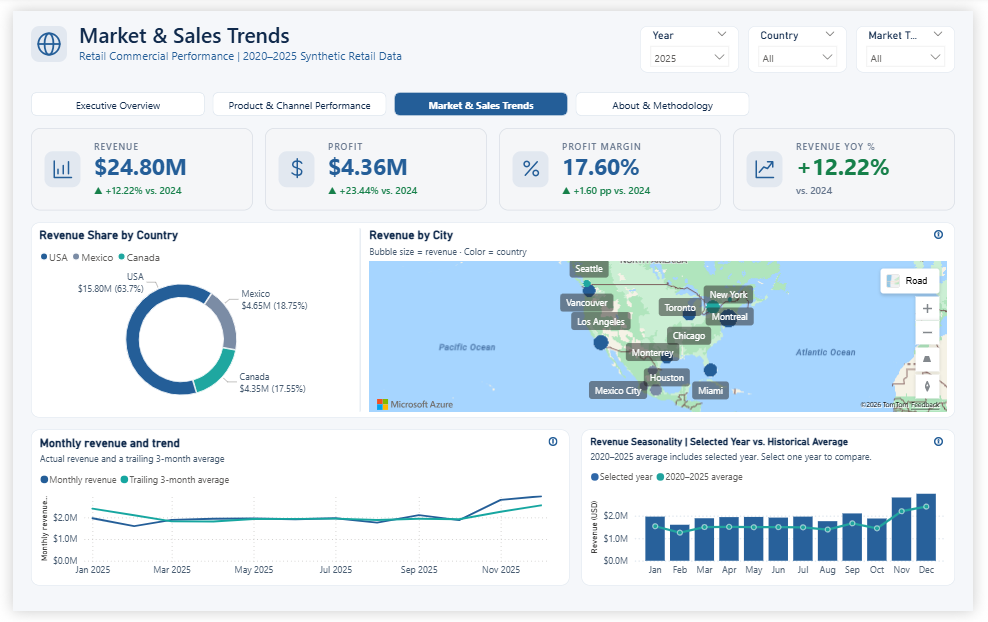

The page's visual inventory and layout, read from the dashboard file:
{"tool":"powerbi","page":{"name":"Market & Sales Trends","canvas":[1280,800],"ordinal":2},"visuals":[{"type":"textbox","box":[88,12,710,80],"z":0},{"type":"shape","box":[24.7,282.8,1231.8,260],"z":0,"group":"g1"},{"type":"image","box":[24,20,48,48],"z":1000},{"type":"donutChart","title":"Revenue Share by Country","fields":{"Category":["a_DimLocation_portfolio.Country"],"Y":["_Measures.Total Revenue"]},"box":[24.7,282.8,400,259.8],"z":1000,"group":"g1"},{"type":"pageNavigator","box":[24,108,960,32],"z":2000},{"type":"azureMap","title":"Revenue by City","fields":{"Category":["a_DimLocation_portfolio.City"],"Series":["a_DimLocation_portfolio.Country"],"Size":["_Measures.Total Revenue"]},"box":[464,282,792,260],"z":2000,"group":"g1"},{"type":"slicer","fields":{"Values":["a_DimDate_portfolio.Year"]},"box":[836,20,132,62],"z":3000},{"type":"shape","box":[452,290,22,244],"z":3000,"group":"g1"},{"type":"slicer","fields":{"Values":["a_DimLocation_portfolio.Country"]},"box":[980,20,132,62],"z":4000},{"type":"slicer","fields":{"Values":["a_DimLocation_portfolio.MarketType"]},"box":[1124,20,132,62],"z":5000},{"type":"actionButton","box":[1224,288,20,20],"z":5000,"group":"g1"},{"type":"image","box":[24,156,296,110],"z":6000},{"type":"image","box":[336,156,296,110],"z":7000},{"type":"image","box":[648,156,296,110],"z":8000},{"type":"image","box":[960,156,296,110],"z":9000},{"type":"lineChart","title":"Monthly revenue and trend","fields":{"Category":["a_DimDate_portfolio.MonthStart"],"Y":["_Measures.Total Revenue","_Measures.Trailing 3-Month Average Revenue"]},"box":[24,558,718,208],"z":10000},{"type":"lineClusteredColumnComboChart","title":"Revenue Seasonality | Selected Year vs. Historical Average","fields":{"Category":["a_DimDate_portfolio.Month"],"Y":["_Measures.Selected-Year Monthly Revenue"],"Y2":["_Measures.Average Revenue by Calendar Month"]},"box":[758,558,498,208],"z":11000},{"type":"group","id":"g1","title":"Group 1","box":[24.7,282,1231.8,260.8],"z":12000},{"type":"actionButton","box":[710,564,20,20],"z":13000},{"type":"actionButton","box":[1224,564,20,20],"z":14000}]}

Visuals, with their boxes in screenshot pixels (x1, y1, x2, y2), scaled from the page's 1280x800 canvas onto the 988x622 screenshot:
textbox: l=68, t=9, r=616, b=72
shape: l=19, t=220, r=970, b=422
image: l=19, t=16, r=56, b=53
"Revenue Share by Country" donutChart: l=19, t=220, r=328, b=422
pageNavigator: l=19, t=84, r=760, b=109
"Revenue by City" azureMap: l=358, t=219, r=969, b=421
slicer - a_DimDate_portfolio.Year: l=645, t=16, r=747, b=64
shape: l=349, t=225, r=366, b=415
slicer - a_DimLocation_portfolio.Country: l=756, t=16, r=858, b=64
slicer - a_DimLocation_portfolio.MarketType: l=868, t=16, r=969, b=64
actionButton: l=945, t=224, r=960, b=239
image: l=19, t=121, r=247, b=207
image: l=259, t=121, r=488, b=207
image: l=500, t=121, r=729, b=207
image: l=741, t=121, r=969, b=207
"Monthly revenue and trend" lineChart: l=19, t=434, r=573, b=596
"Revenue Seasonality | Selected Year vs. Historical Average" lineClusteredColumnComboChart: l=585, t=434, r=969, b=596
"Group 1" group: l=19, t=219, r=970, b=422
actionButton: l=548, t=439, r=563, b=454
actionButton: l=945, t=439, r=960, b=454
